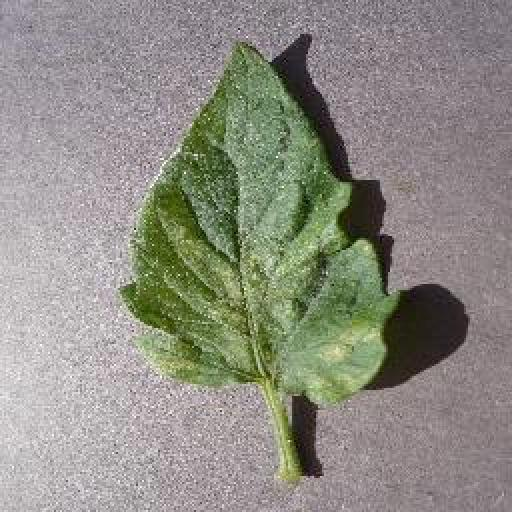disease_tomato: (119, 38, 399, 402)
